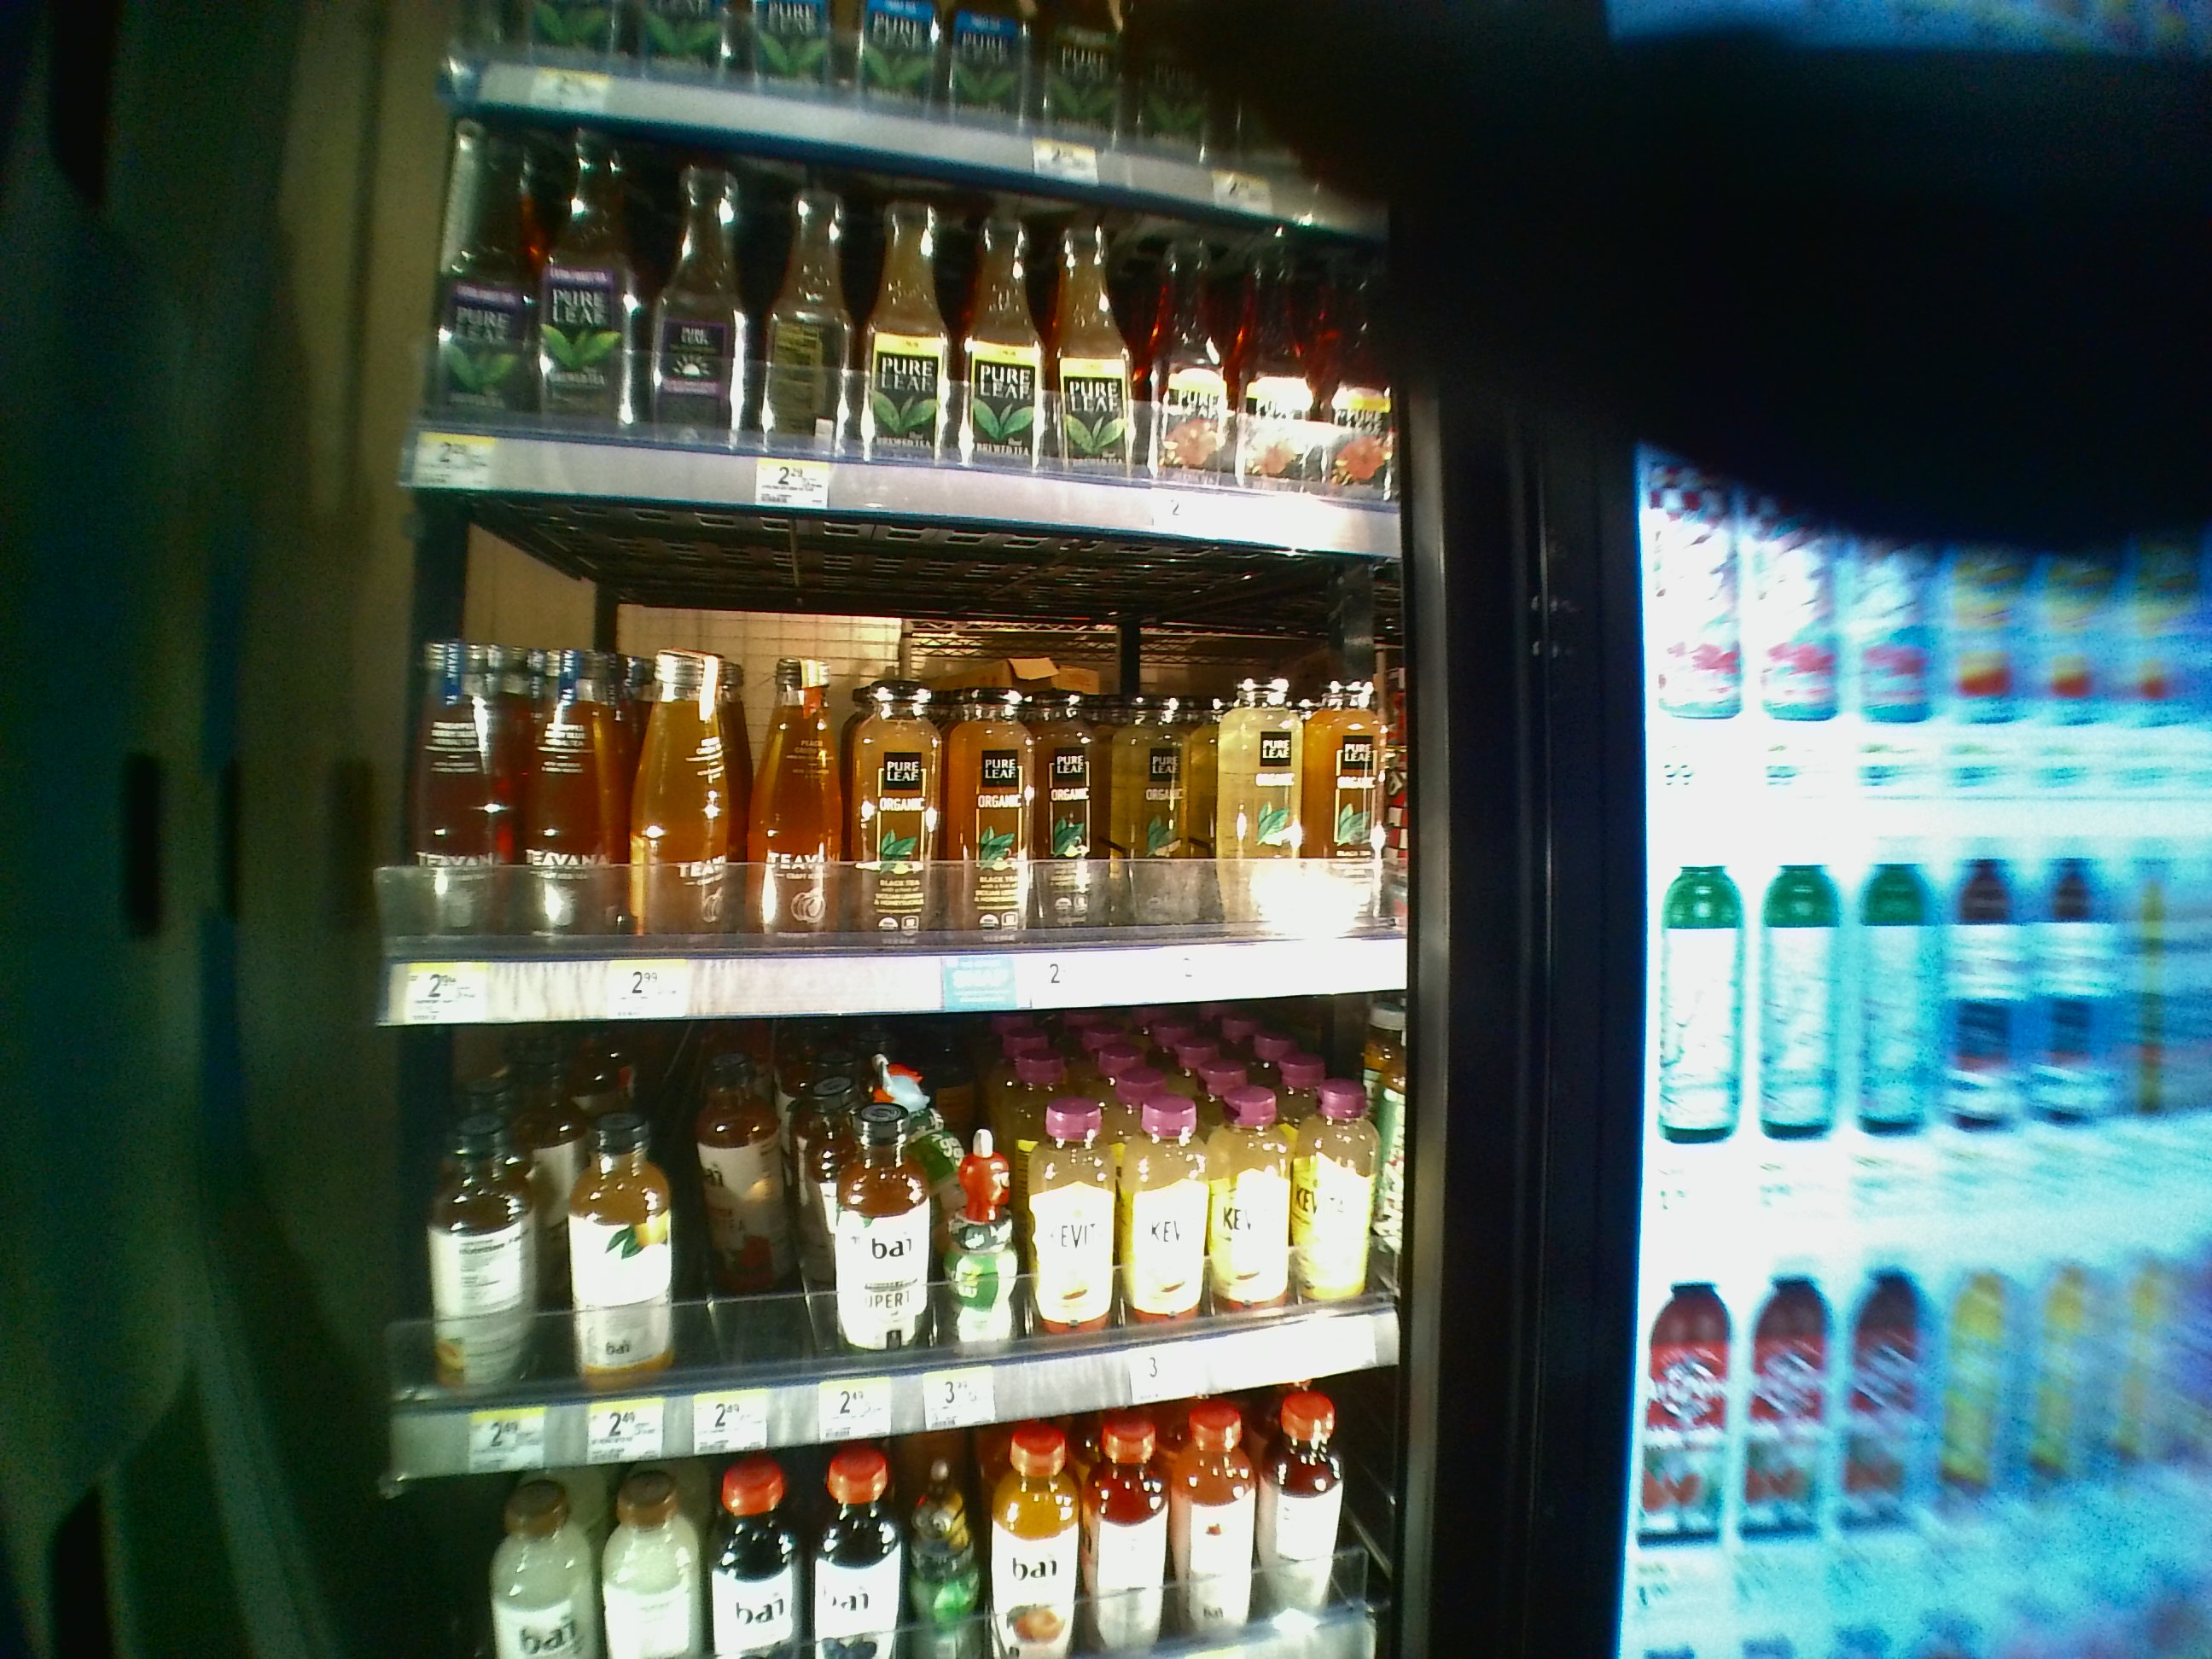shelf: (376, 502, 1425, 1025), (381, 1047, 1423, 1471), (399, 94, 1407, 488)
